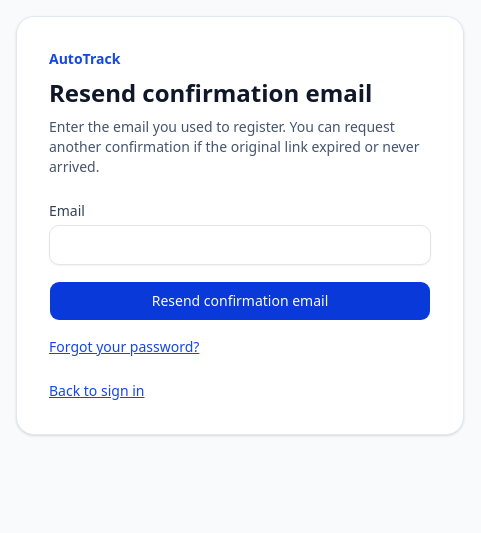
email recovery requests › rate limiting has a countdown and enables retry after it elapses
In the field labelled "Email": (240, 245) [49,225,431,265], type "ada@example.test"
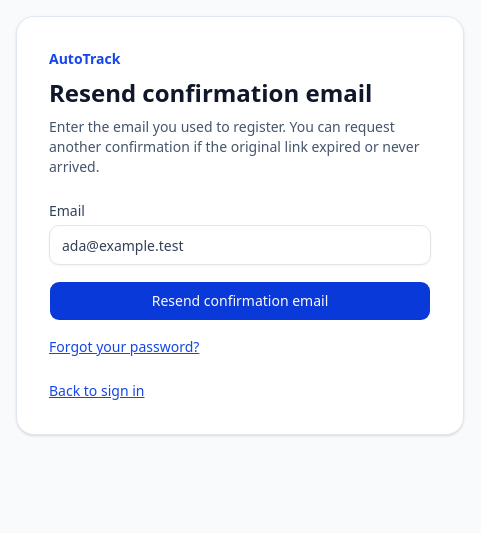
Submit the form, box [49,201,431,321]
Wait 60000 ms
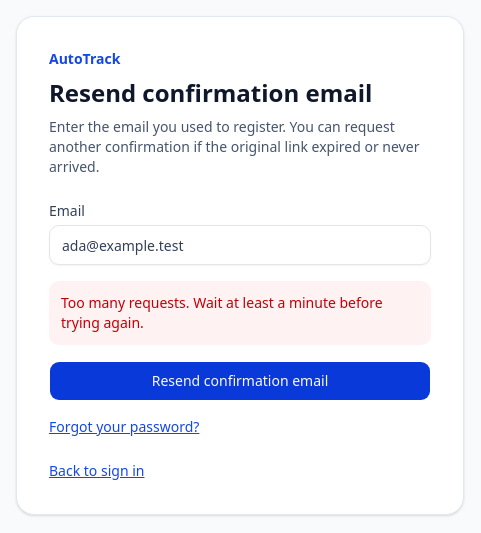
Expected: the button "Resend confirmation email" is enabled, [49,361,431,401]
Result: the message shows "Too many requests" at [61,293,383,332]
